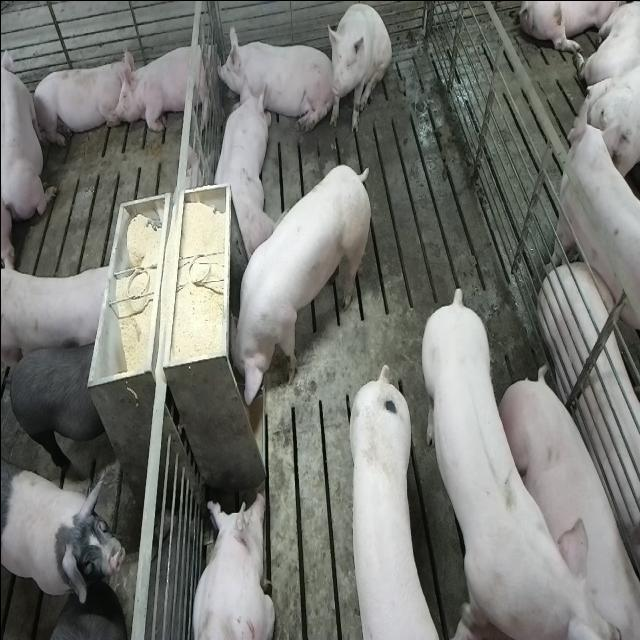Feeding: (230, 162, 375, 410)
Lateral_lying: (537, 264, 640, 628)
Sitting: (324, 4, 390, 137)
Standing: (426, 282, 596, 638), (345, 369, 435, 640), (550, 108, 640, 352), (2, 464, 126, 604), (3, 335, 111, 471), (2, 257, 118, 369), (34, 610, 128, 640)
Sternal_lying: (190, 486, 274, 640), (215, 25, 328, 133), (209, 78, 270, 262), (2, 36, 56, 224), (29, 52, 130, 150), (116, 37, 215, 136)
